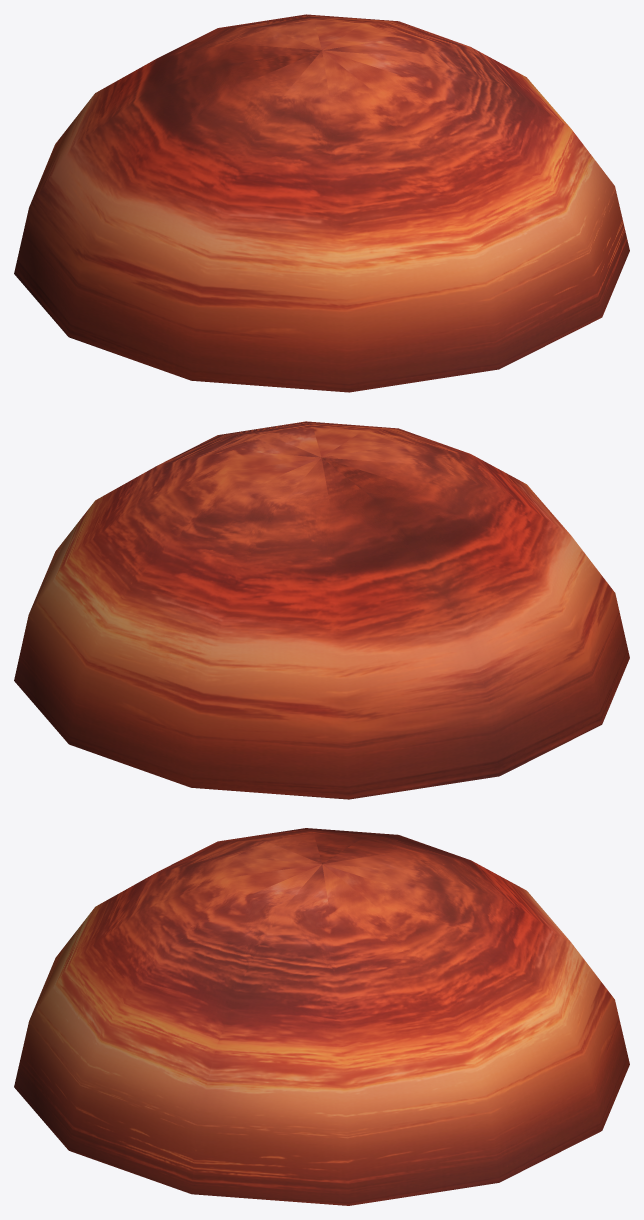
The model's file is env_fel_farm_pre.glb.
The picture shows the model from 3 angles, top to bottom: view 1: azimuth 30°, elevation 25°; view 2: azimuth 150°, elevation 25°; view 3: azimuth 270°, elevation 25°; orthographic projection.
Visible parts, largest first — view 1: skybox_01_mesh; view 2: skybox_01_mesh; view 3: skybox_01_mesh.
Part boxes in pixels (x1,y1,x2,y2): skybox_01_mesh: [14, 14, 629, 392]; skybox_01_mesh: [14, 421, 629, 799]; skybox_01_mesh: [14, 828, 629, 1205].
Size of the model in its own units: 395 by 150 by 395.
13 materials, 13 textured.
